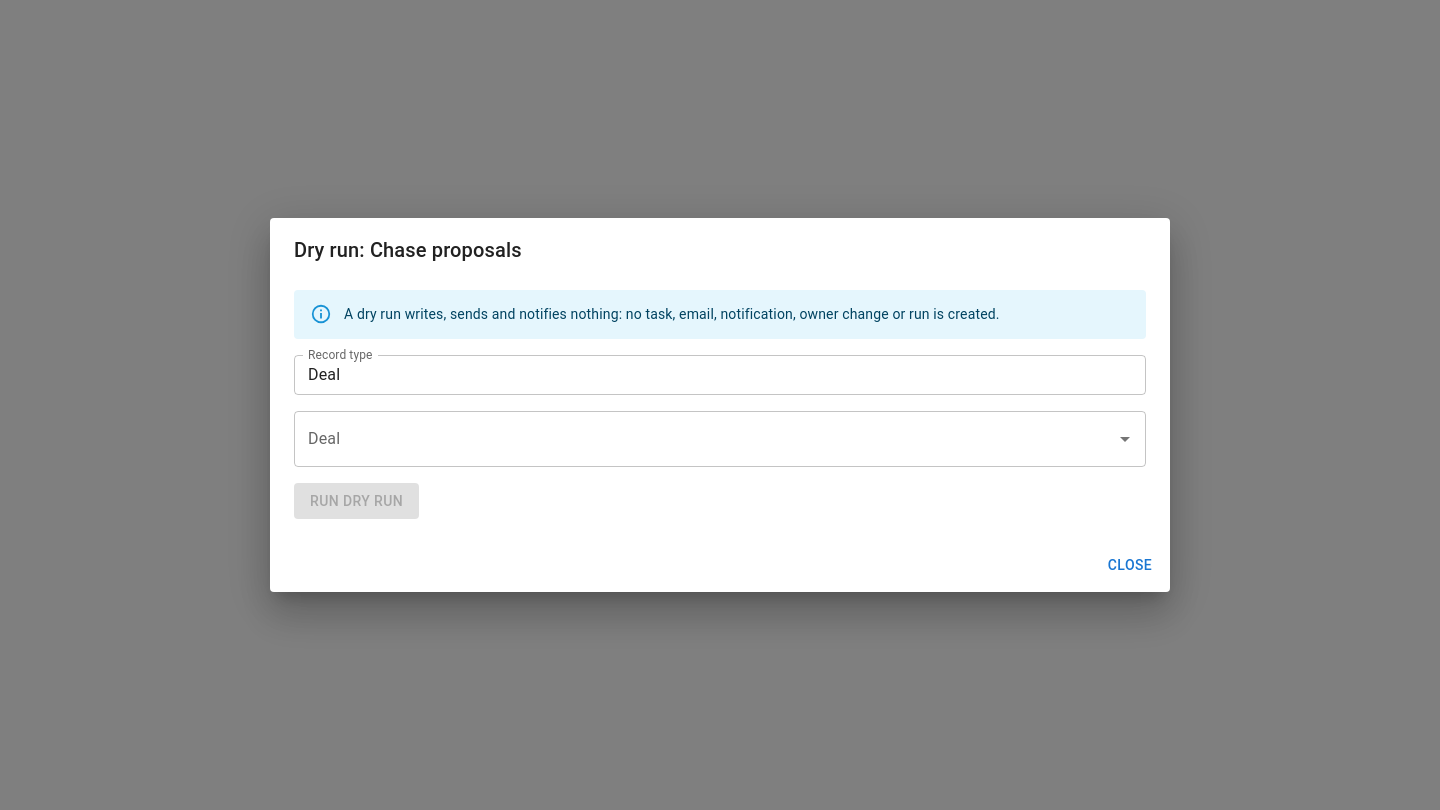
Test: DryRunDialog › fixes the record type to the rule entity type and offers deals of every stage
Expected: the field labelled "Record type" holds "Deal", 294,354 -> 1146,394
Press the mouse on the dropdown labelled "Deal" at (705, 438), box 303,420 -> 1107,458
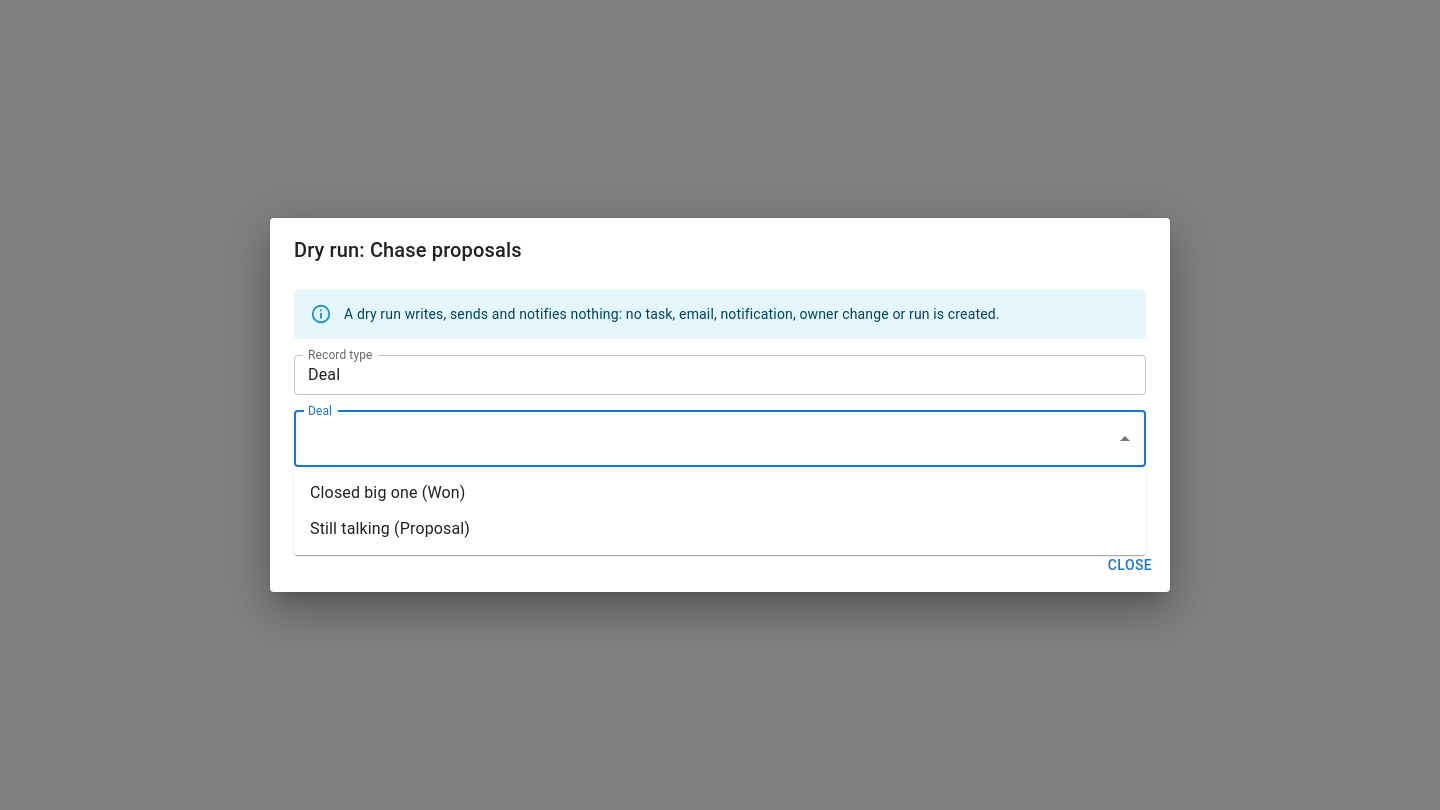
Click the option "Closed big one (Won)" at (388, 492), box 310,483 -> 466,502
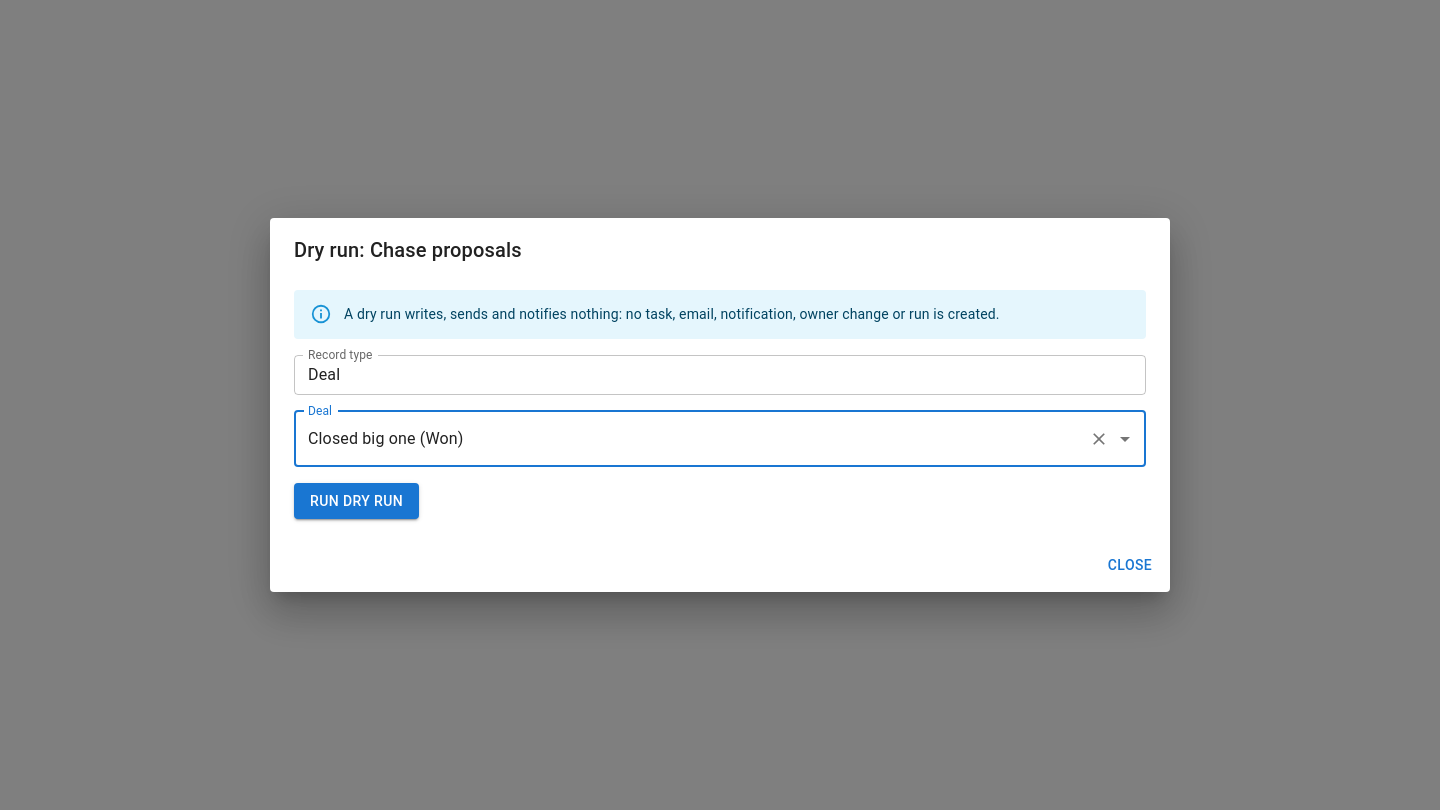
Expected: the dropdown labelled "Deal" holds "Closed big one (Won)", 303,420 -> 1081,458
Click the button "Run dry run" at (357, 501), box 294,482 -> 419,519
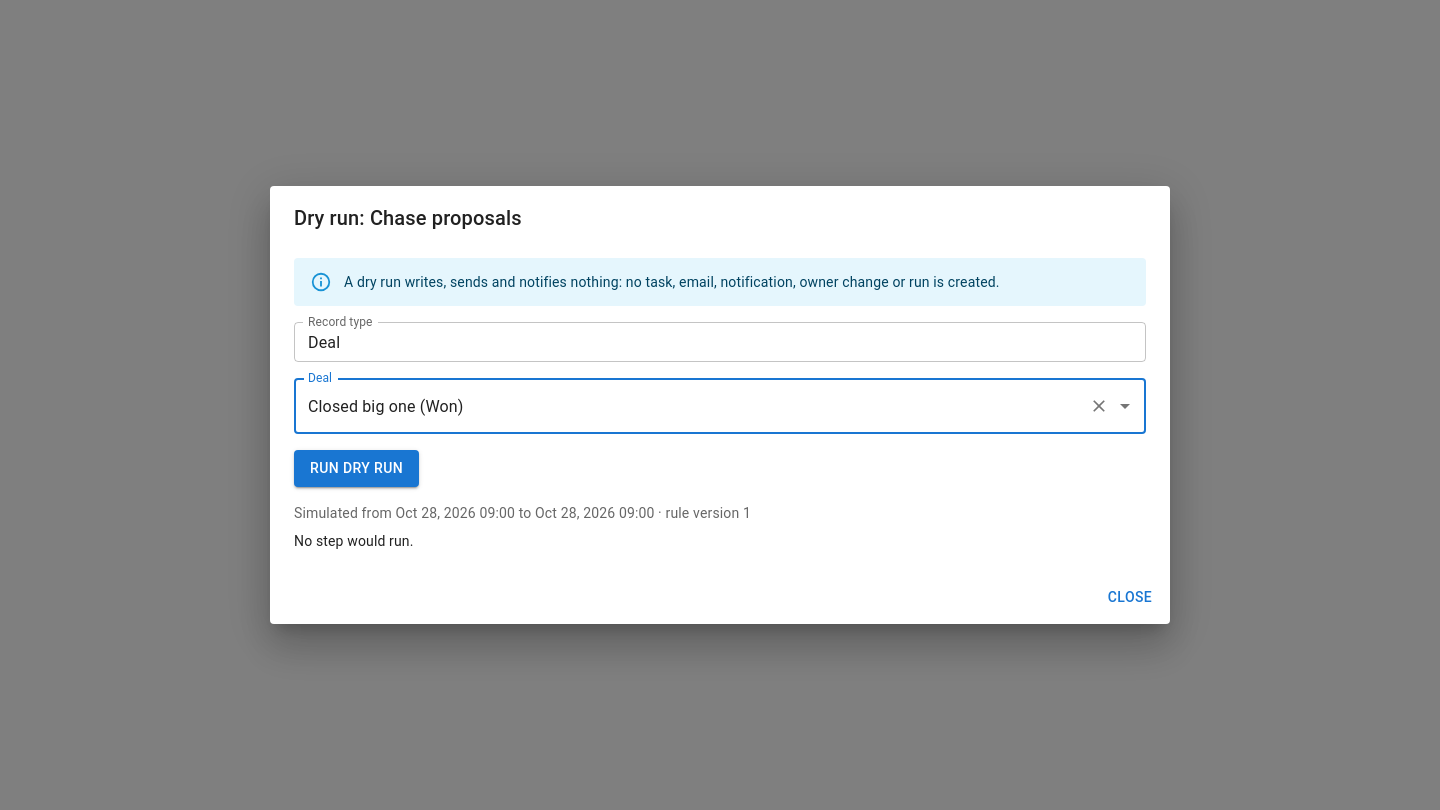
Expected: the text "No step would run." is shown, 294,533 -> 414,549
